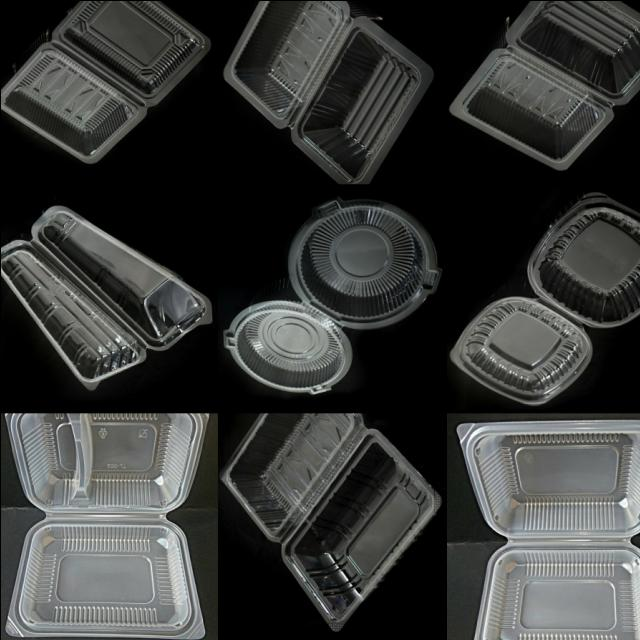plastik: (220, 413, 439, 631), (5, 413, 205, 637), (224, 198, 439, 393), (456, 419, 640, 640), (450, 192, 640, 404), (0, 206, 211, 389), (224, 0, 432, 182), (0, 0, 208, 162), (450, 0, 640, 169)
